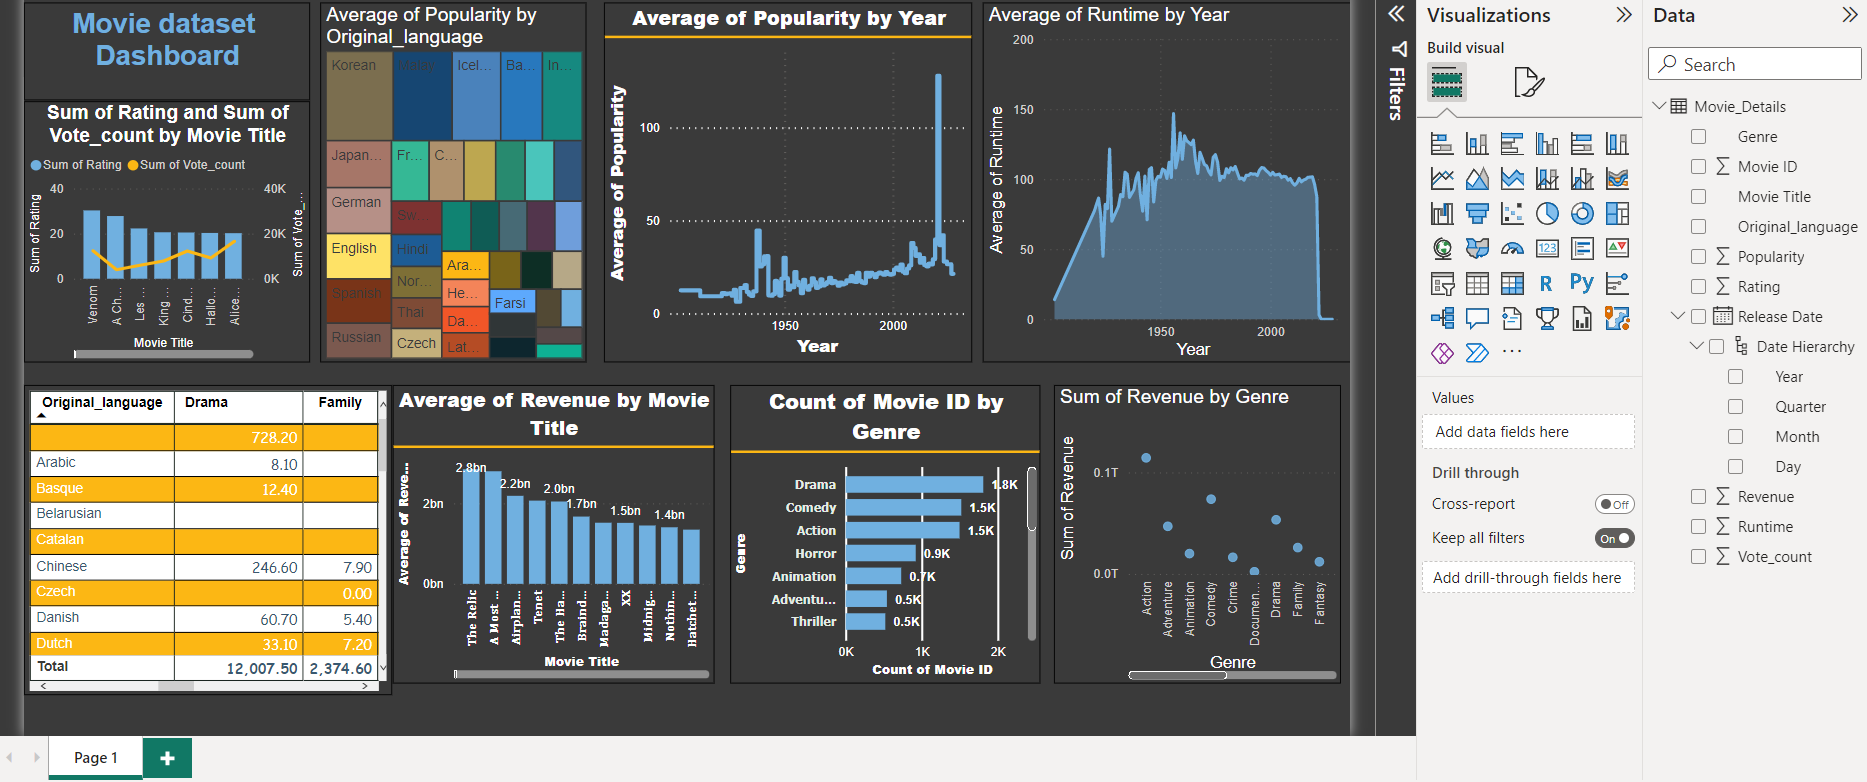

The dashboard page shown, as its layout file describes it:
{"tool":"powerbi","page":{"name":"Page 1","canvas":[1280,720],"ordinal":0},"visuals":[{"type":"clusteredBarChart","fields":{"Category":["Movie_Details.Genre"],"Y":["CountNonNull(Movie_Details.Movie ID)"]},"box":[682,381.5,299.1,288.2],"z":0},{"type":"lineChart","fields":{"Category":["Movie_Details.Release Date.Variation.Date Hierarchy.Year"],"Y":["Avg(Movie_Details.Popularity)"]},"box":[559.9,12.3,355.4,347.2],"z":1000},{"type":"columnChart","fields":{"Category":["Movie_Details.Movie Title"],"Y":["Avg(Movie_Details.Revenue)"]},"box":[355.4,381.5,310.1,288.2],"z":2000},{"type":"pivotTable","fields":{"Rows":["Movie_Details.Original_language"],"Columns":["Movie_Details.Genre"],"Values":["Sum(Movie_Details.Rating)"]},"box":[0,381.5,355.4,299.1],"z":3000},{"type":"stackedAreaChart","fields":{"Y":["Avg(Movie_Details.Runtime)"],"Category":["Movie_Details.Release Date.Variation.Date Hierarchy.Year"]},"box":[924.9,12.3,355.4,347.2],"z":4000},{"type":"scatterChart","fields":{"X":["Movie_Details.Genre"],"Y":["Sum(Movie_Details.Revenue)"]},"box":[993.5,381.5,277.2,288.2],"z":5000},{"type":"treemap","fields":{"Group":["Movie_Details.Original_language"],"Values":["Avg(Movie_Details.Popularity)"]},"box":[285.4,12.3,256.6,347.2],"z":5001},{"type":"textbox","box":[0,12.3,275.8,94.7],"z":5002},{"type":"lineStackedColumnComboChart","fields":{"Category":["Movie_Details.Movie Title"],"Y":["Sum(Movie_Details.Rating)"],"Y2":["Sum(Movie_Details.Vote_count)"]},"box":[0,107,276,252],"z":5003}]}

Visuals, with their boxes in screenshot pixels (x1, y1, x2, y2):
clusteredBarChart - Movie_Details.Genre x CountNonNull(Movie_Details.Movie ID): 748 414 1081 735
lineChart - Movie_Details.Release Date.Variation.Date Hierarchy.Year x Avg(Movie_Details.Popularity): 613 4 1008 390
columnChart - Movie_Details.Movie Title x Avg(Movie_Details.Revenue): 385 414 730 735
pivotTable - Movie_Details.Original_language x Movie_Details.Genre: 0 414 385 747
stackedAreaChart - Avg(Movie_Details.Runtime) x Movie_Details.Release Date.Variation.Date Hierarchy.Year: 1018 4 1413 390
scatterChart - Movie_Details.Genre x Sum(Movie_Details.Revenue): 1095 414 1403 735
treemap - Movie_Details.Original_language x Avg(Movie_Details.Popularity): 308 4 593 390
textbox: 0 4 297 109
lineStackedColumnComboChart - Movie_Details.Movie Title x Sum(Movie_Details.Rating): 0 109 297 389
